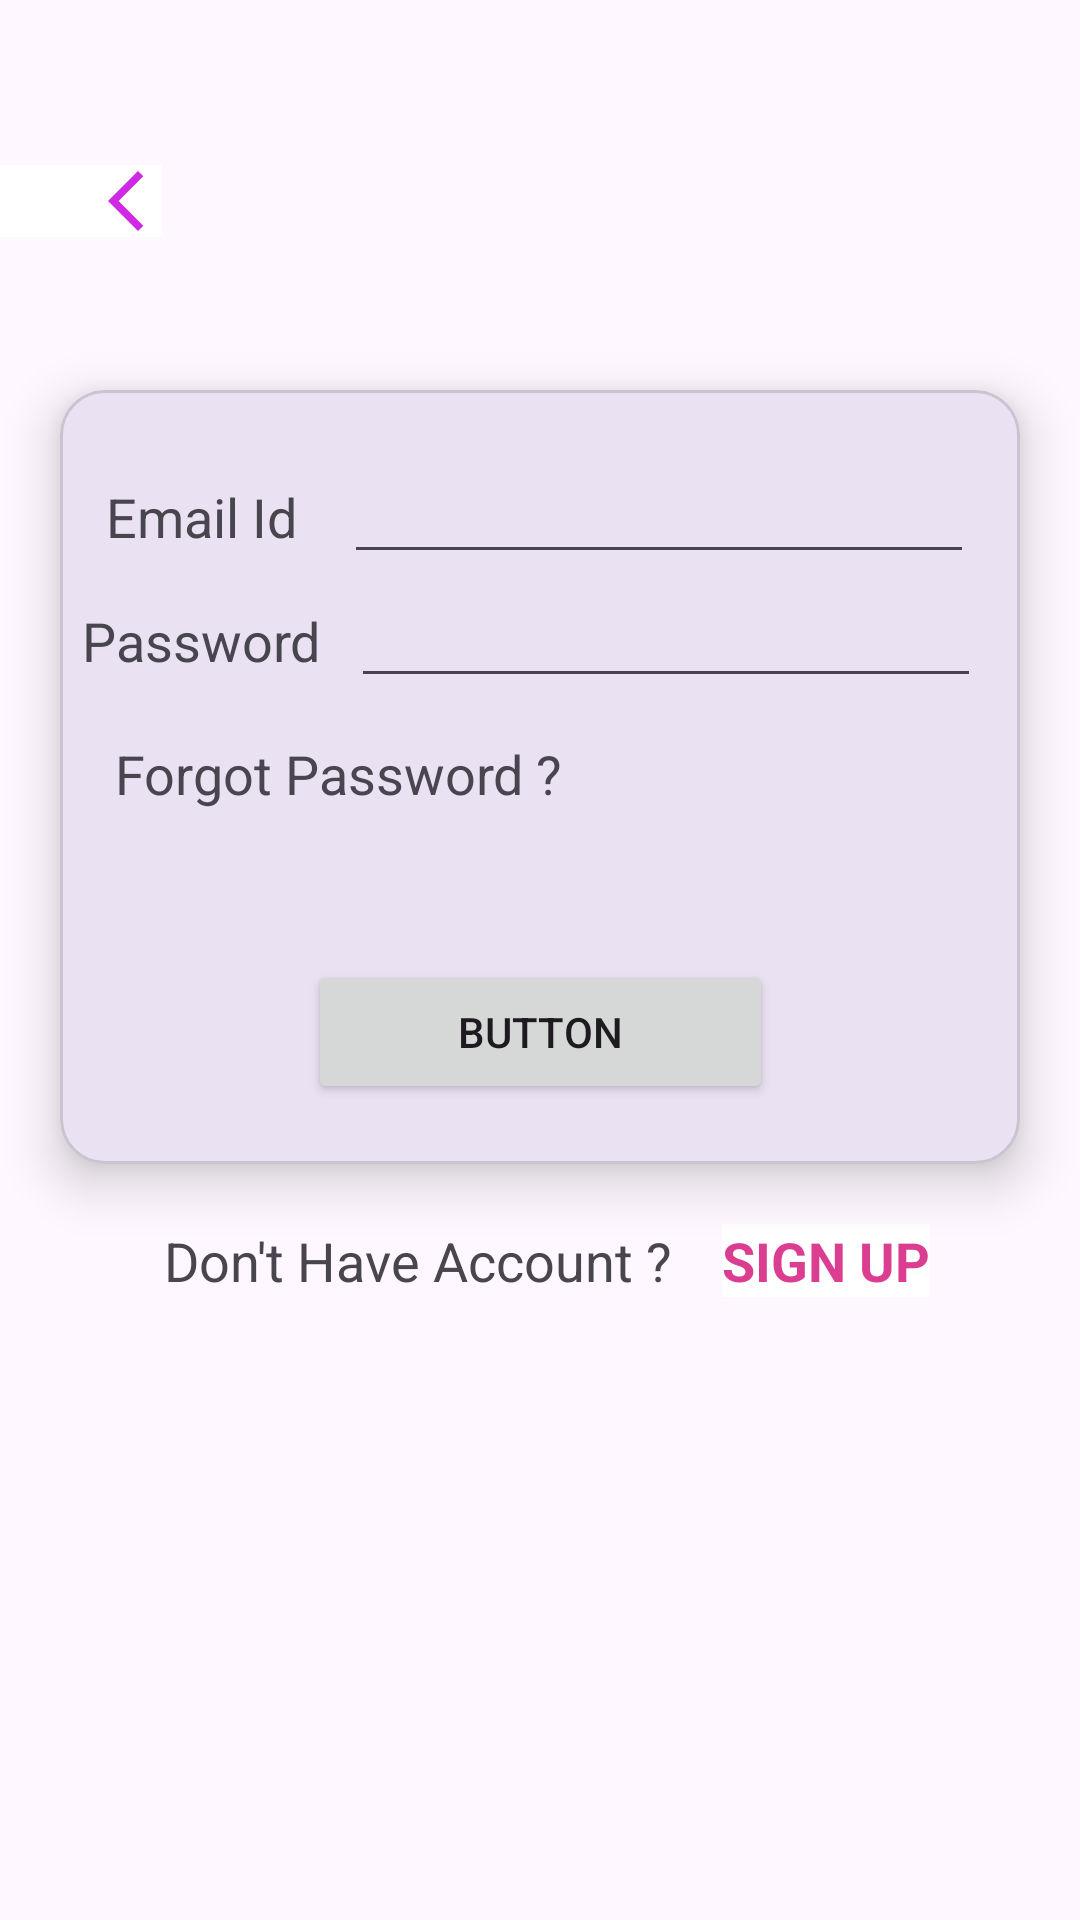

Named icons in this screenshot (1080 × 1920) and their centers, (x=x, y=y):
back: (x=125, y=201)
